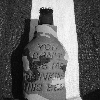beer: (19, 6, 68, 100)
